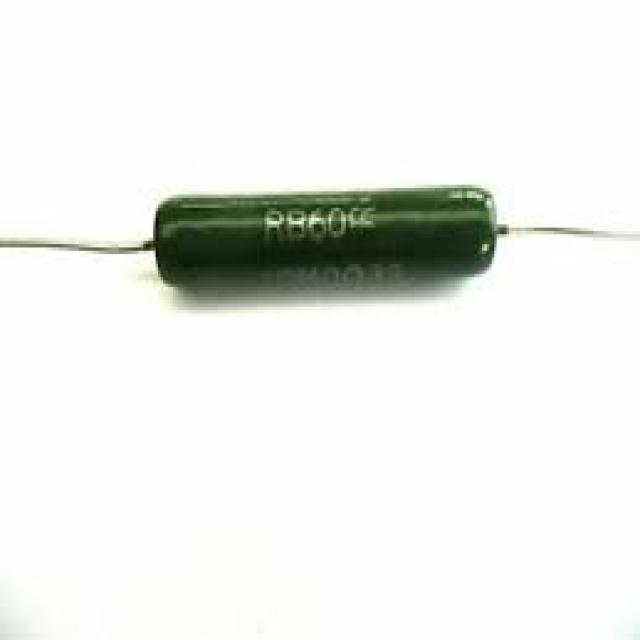Resistor: (151, 185, 503, 290)
